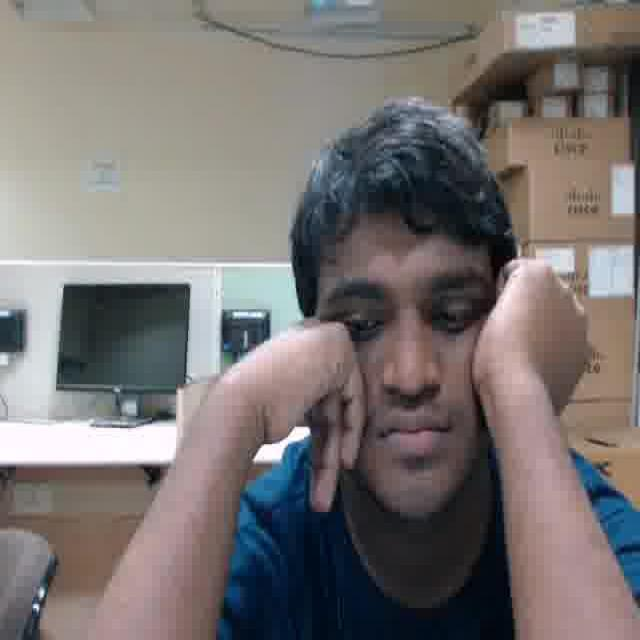Boredom: (320, 193, 501, 508)
